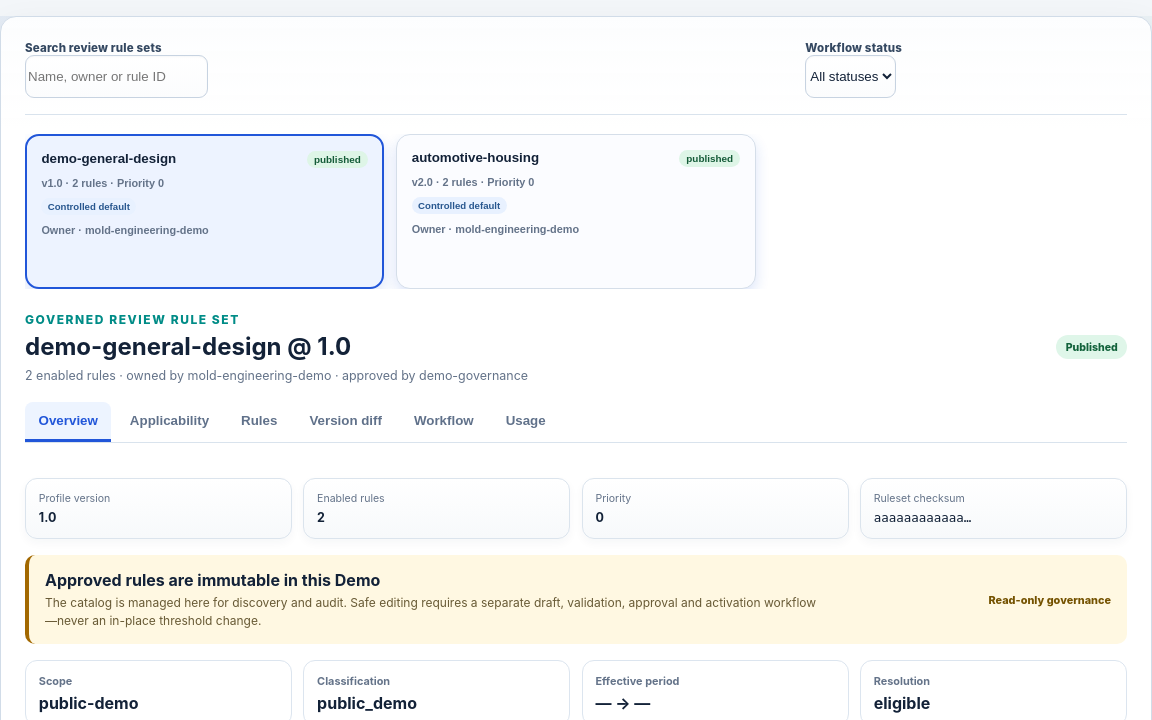
Test: RuleManagementWorkspace › filters a keyboard-operable review rule set catalog
Expected: the number of list items with class "rule-catalog-card" is 2, [25,134,384,289]; [396,134,756,289]
Type "automotive" into the search field labelled "Search review rule sets". click: (116, 76)
box: [25,55,208,98]
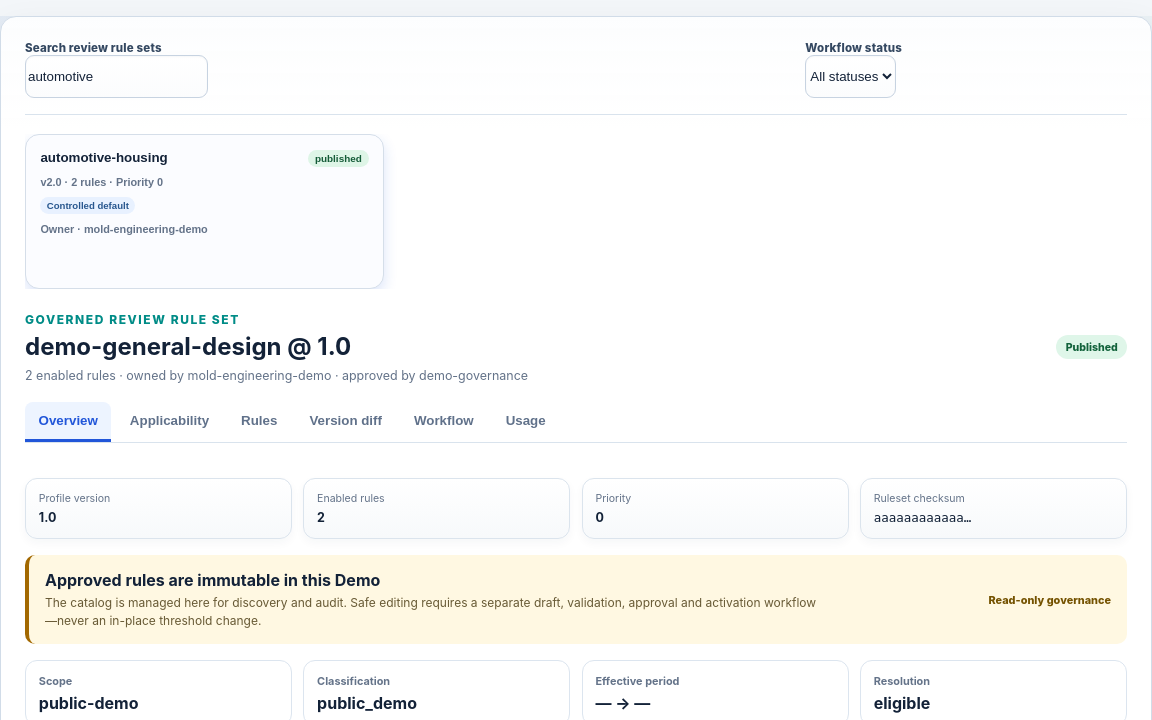
Expected: the number of list items with class "rule-catalog-card" is 1, [25,134,384,289]
